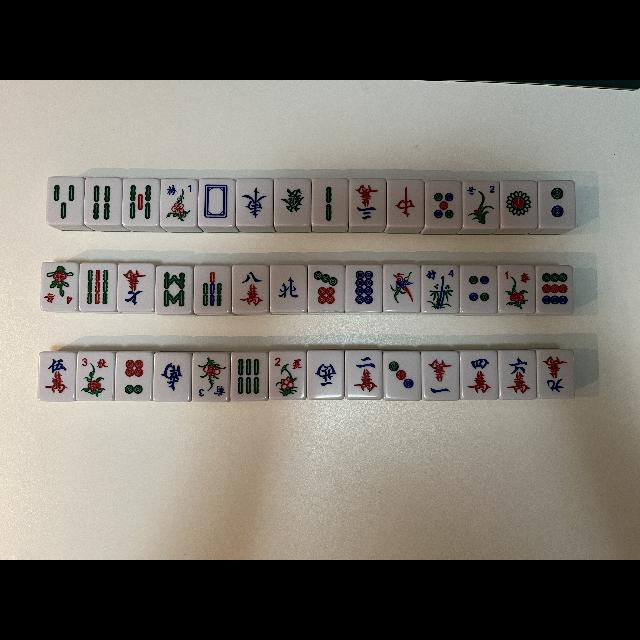b1: (384, 264, 422, 312)
b2: (312, 178, 348, 226)
b3: (48, 178, 82, 224)
b4: (85, 176, 122, 224)
b5: (122, 178, 158, 226)
b6: (230, 352, 268, 400)
b7: (194, 266, 230, 312)
b8: (156, 266, 192, 314)
b9: (80, 263, 116, 311)
c1: (423, 352, 459, 400)
c2: (346, 350, 382, 398)
c3: (350, 178, 386, 226)
c4: (460, 351, 498, 399)
c5: (39, 352, 75, 401)
c6: (498, 349, 536, 398)
c7: (118, 263, 154, 311)
c8: (232, 266, 270, 312)
c9: (538, 350, 574, 398)
d1: (500, 181, 538, 227)
d2: (540, 180, 574, 228)
d3: (384, 352, 422, 401)
d4: (459, 266, 497, 312)
d5: (424, 182, 462, 228)
d6: (116, 353, 152, 401)
d7: (308, 265, 344, 311)
d8: (346, 265, 382, 311)
d9: (536, 266, 574, 314)
dg: (274, 178, 310, 226)
dr: (386, 180, 424, 227)
dw: (198, 178, 236, 226)
f1: (160, 179, 196, 197)
f2: (462, 182, 500, 200)
f3: (192, 383, 230, 401)
f4: (423, 265, 459, 281)
s1: (499, 268, 535, 284)
s2: (269, 352, 305, 372)
s3: (78, 352, 114, 368)
s4: (41, 291, 77, 311)
we: (237, 178, 273, 226)
wn: (271, 264, 307, 312)
ws: (154, 353, 190, 401)
ww: (308, 351, 346, 399)
